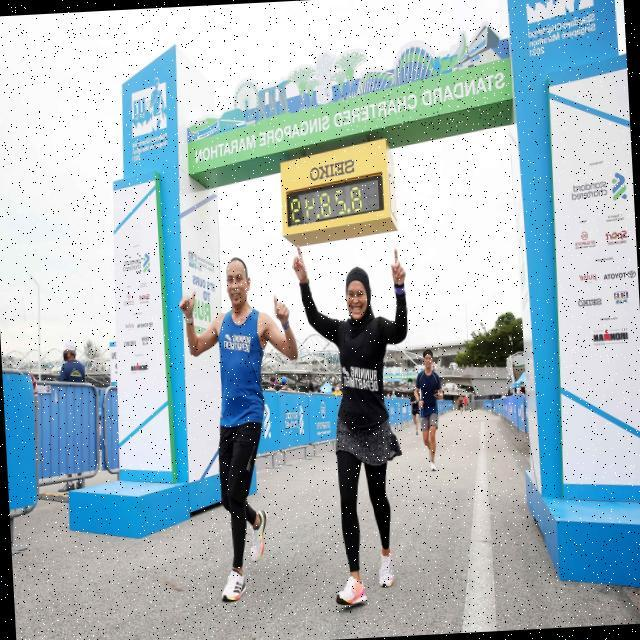Standard Chartered: (332, 71, 508, 134), (571, 170, 628, 204), (528, 13, 596, 41), (284, 403, 304, 436), (132, 132, 168, 149), (123, 253, 151, 274), (263, 405, 272, 441)
